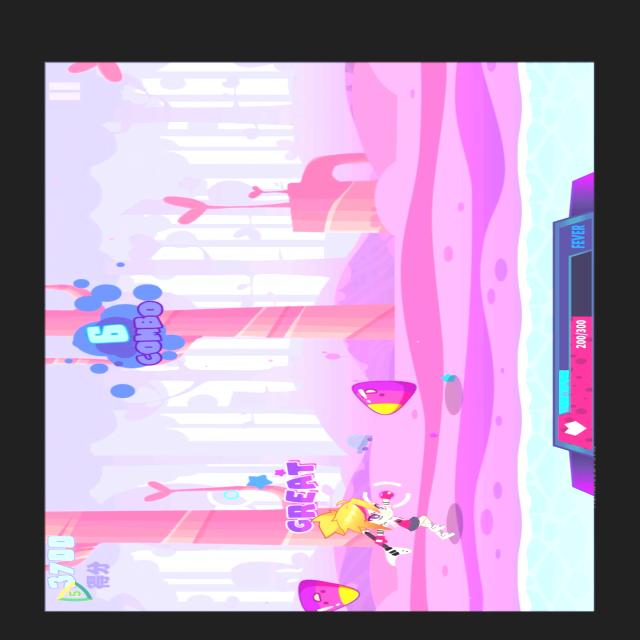Ground Monster - Red Bullet: (347, 367, 439, 418), (284, 572, 376, 610)
